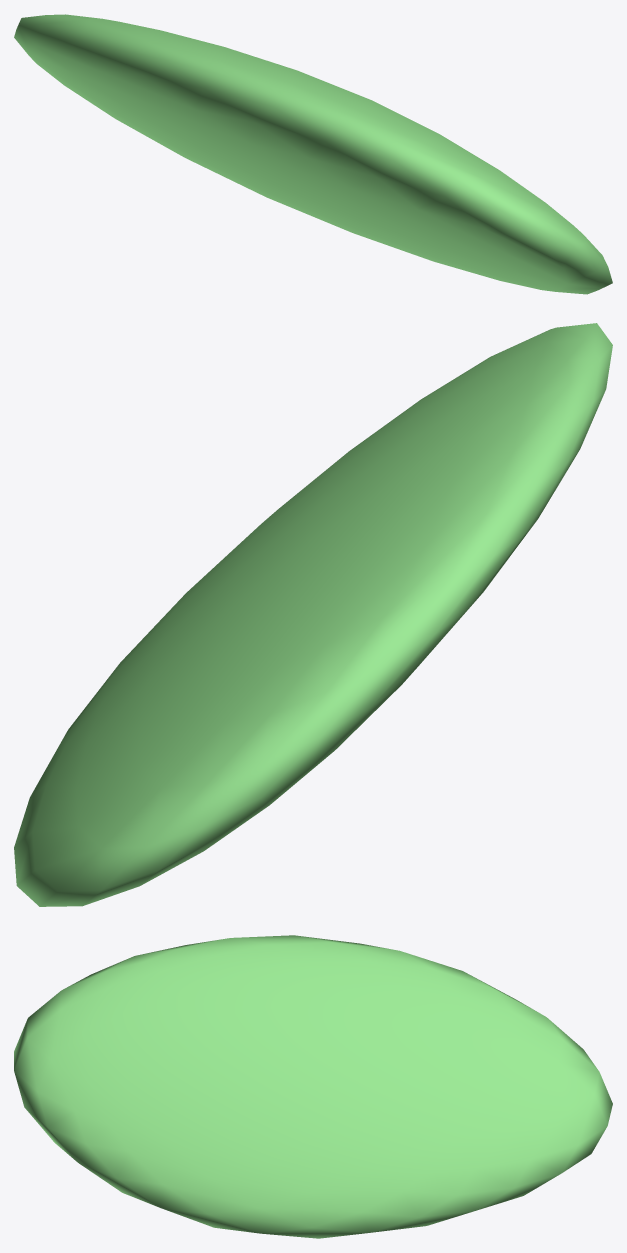
3 views of the same model, one above another, from view 1: azimuth 30°, elevation 25°; view 2: azimuth 150°, elevation 25°; view 3: azimuth 270°, elevation 25° (orthographic). The views are drawn at different scales.
Visible parts, largest first — view 1: WE_CF; view 2: WE_CF; view 3: WE_CF.
Boxes of the visible parts, x1,y1,x2,y2 form: WE_CF: [14, 14, 612, 294]; WE_CF: [14, 323, 612, 906]; WE_CF: [14, 935, 612, 1238].
Size of the model in its own units: 1.81 by 1.37 by 3.75.
